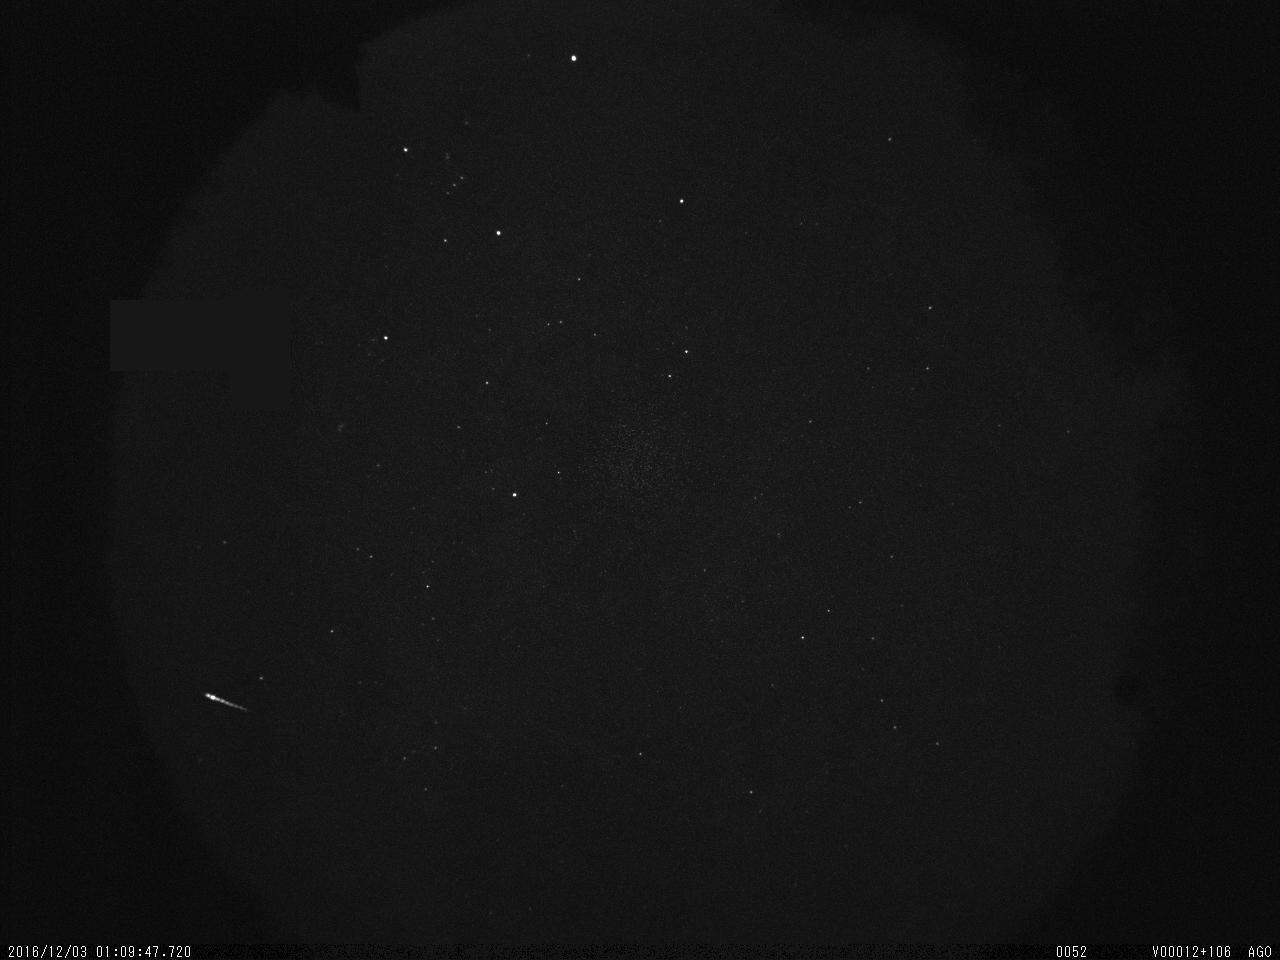meteor: (185, 677, 272, 751)
